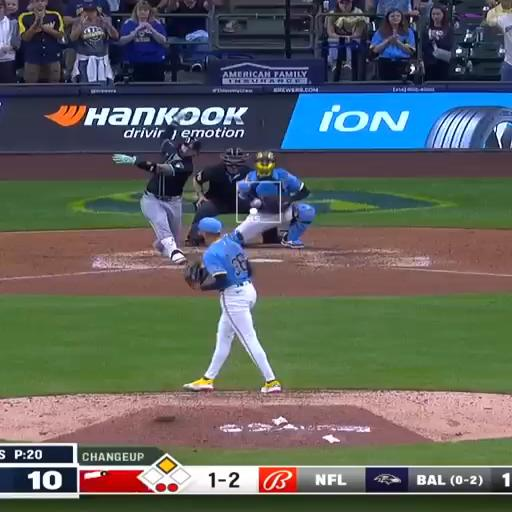bat: (183, 114, 244, 123)
